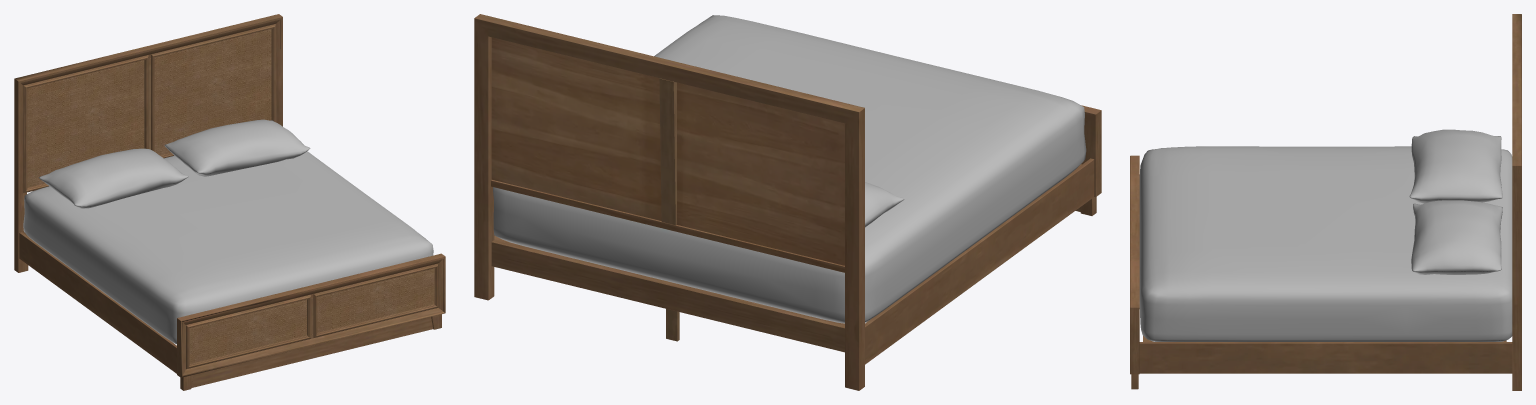
File: bed_abo_B07B4W2MFW.glb
3 views of the same model, side by side, from view 1: azimuth 30°, elevation 25°; view 2: azimuth 150°, elevation 25°; view 3: azimuth 270°, elevation 25° (orthographic). The views are drawn at different scales.
Parts seen in each view (by area): view 1: RootNode; view 2: RootNode; view 3: RootNode.
Boxes of the visible parts, x1,y1,x2,y2 form: RootNode: (14,14,445,390); RootNode: (474,14,1101,390); RootNode: (1130,14,1521,390).
Size of the model in its own units: 2 by 1.39 by 2.18.
1 material, 1 textured.
